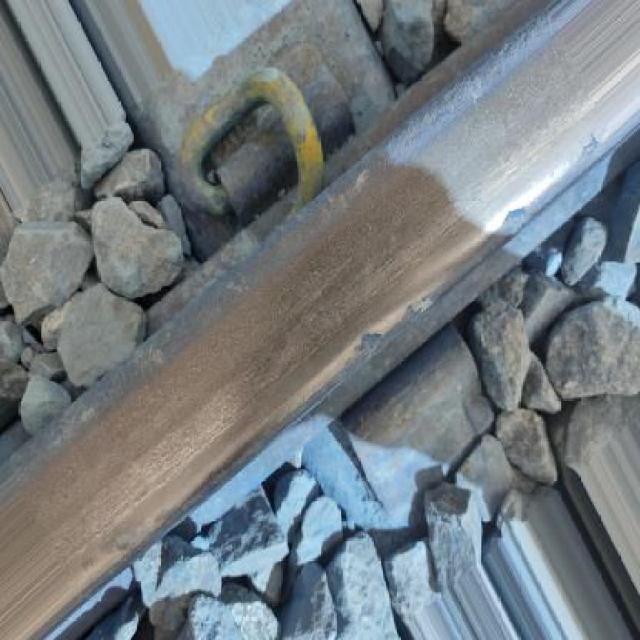non-defective: (17, 77, 619, 604)
